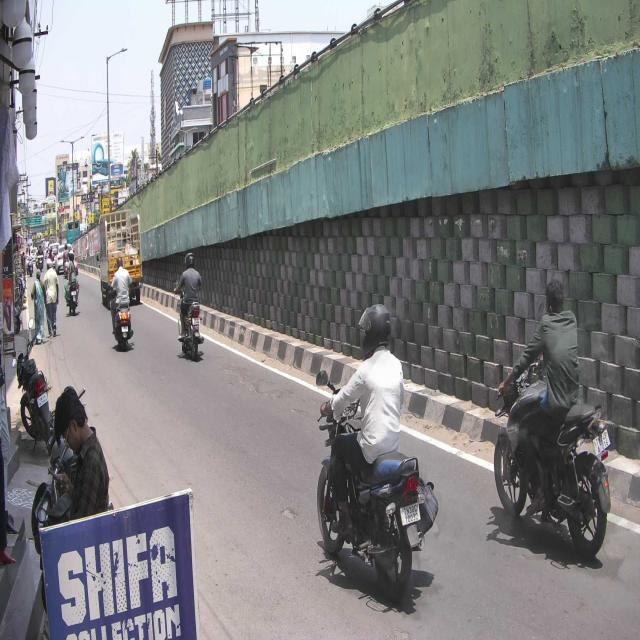single_rider: (492, 275, 613, 562), (316, 302, 430, 606)
